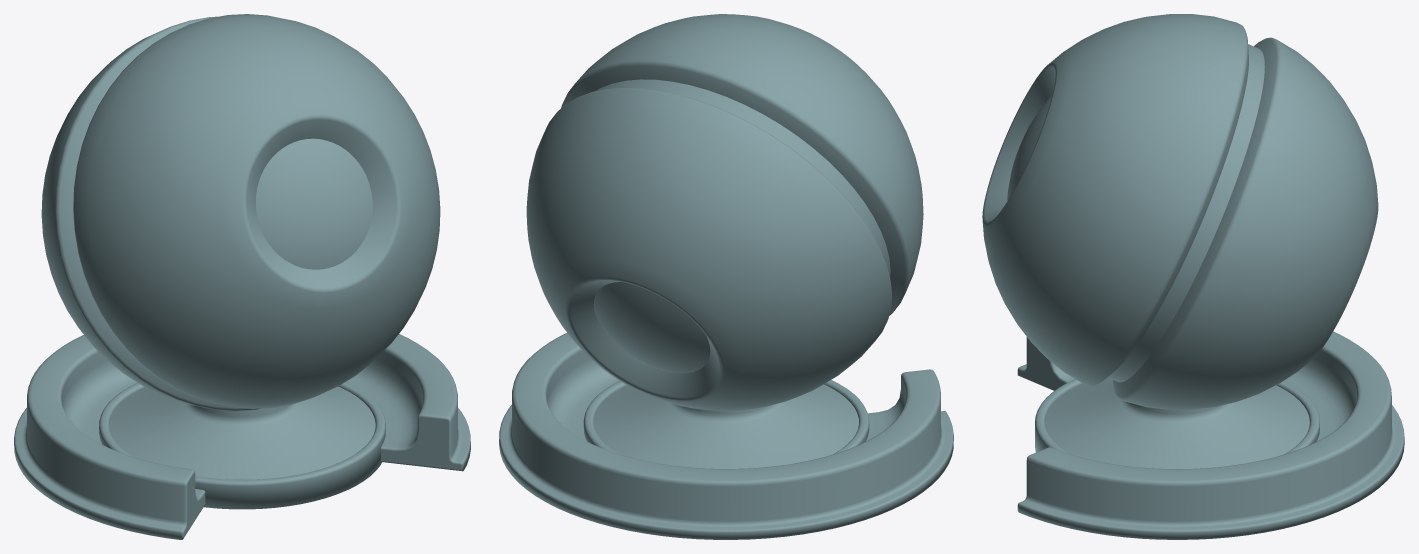
The model's file is MaterialSphere.obj.
3 views of the same model, side by side, from view 1: azimuth 30°, elevation 25°; view 2: azimuth 150°, elevation 25°; view 3: azimuth 270°, elevation 25° (orthographic).
Visible parts, largest first — view 1: MaterialSphere; view 2: MaterialSphere; view 3: MaterialSphere.
Part boxes in pixels (x1,y1,x2,y2): MaterialSphere: (14,14,470,539); MaterialSphere: (499,14,953,539); MaterialSphere: (982,14,1404,539).
Size of the model in its own units: 1.34 by 1.35 by 1.25.
